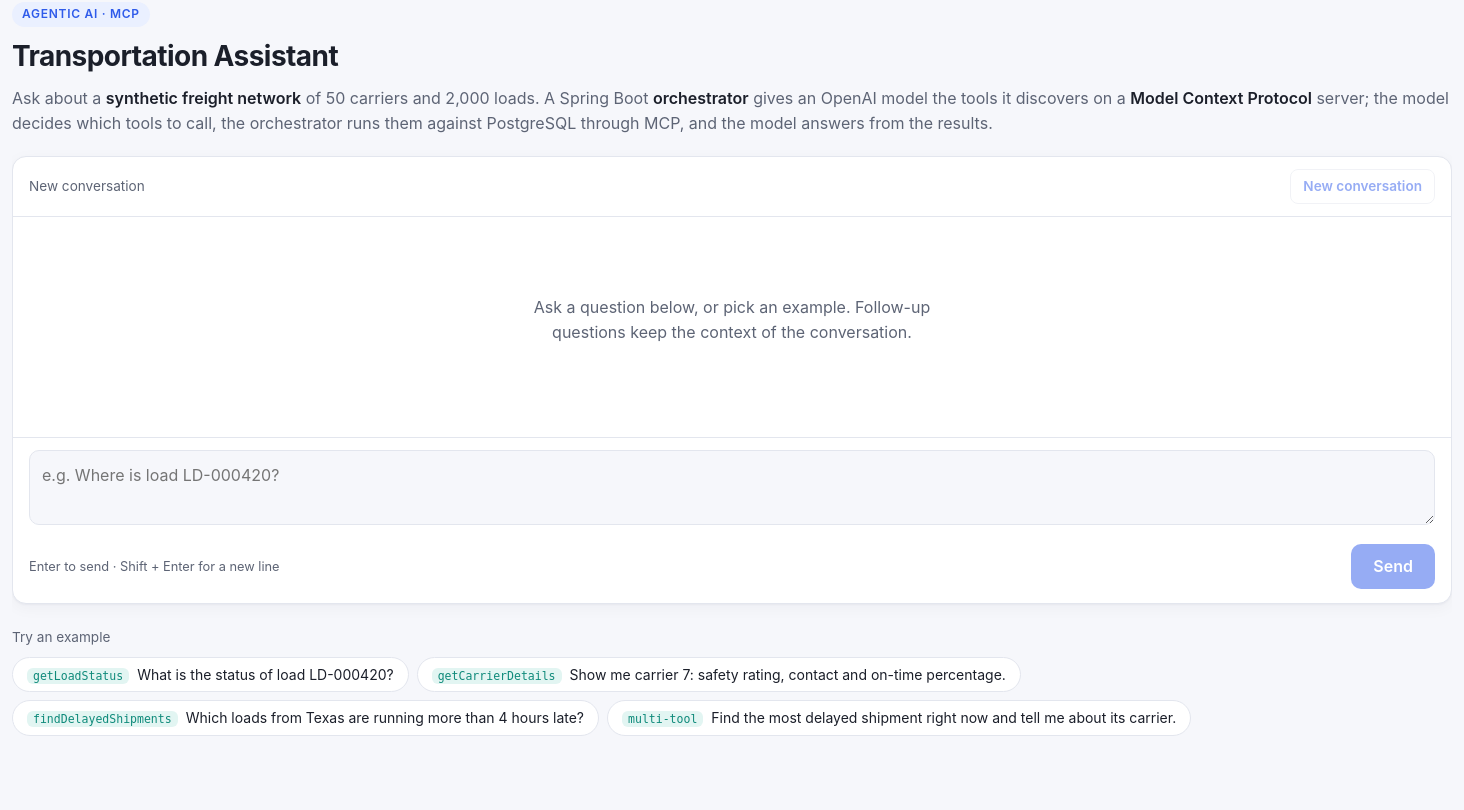
Test case: TransportationAssistant › starts a new conversation without the old id
Later steps or results of the test are not shown.
In the text box named "message the transportation assistant": (732, 487) top-left (29, 450), bottom-right (1435, 525), type "Where is load 420?"
Then press Enter
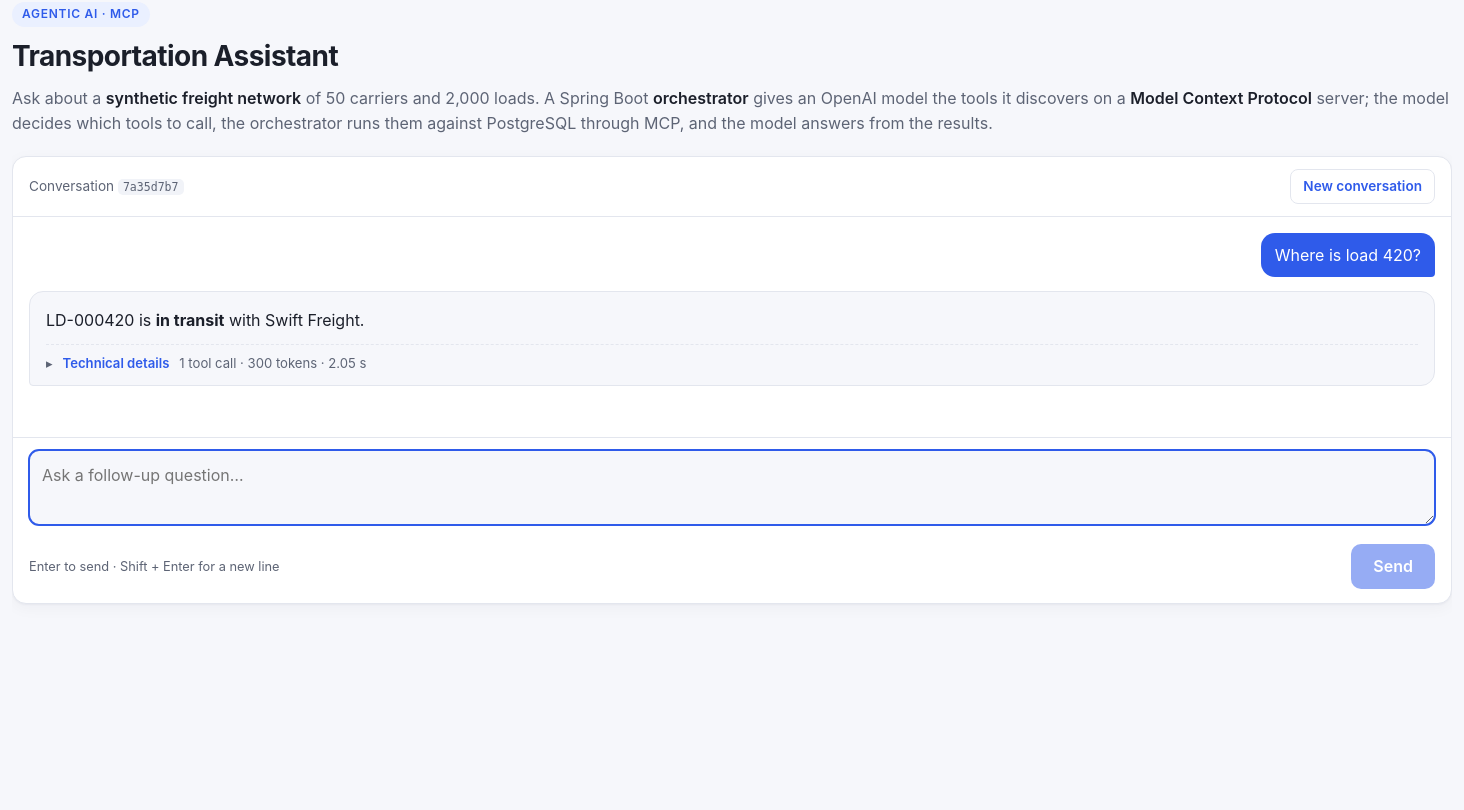
Expected: the text "in transit" is shown, top-left (156, 310), bottom-right (224, 330)
Click the button "New conversation": (1363, 186) top-left (1290, 169), bottom-right (1435, 204)
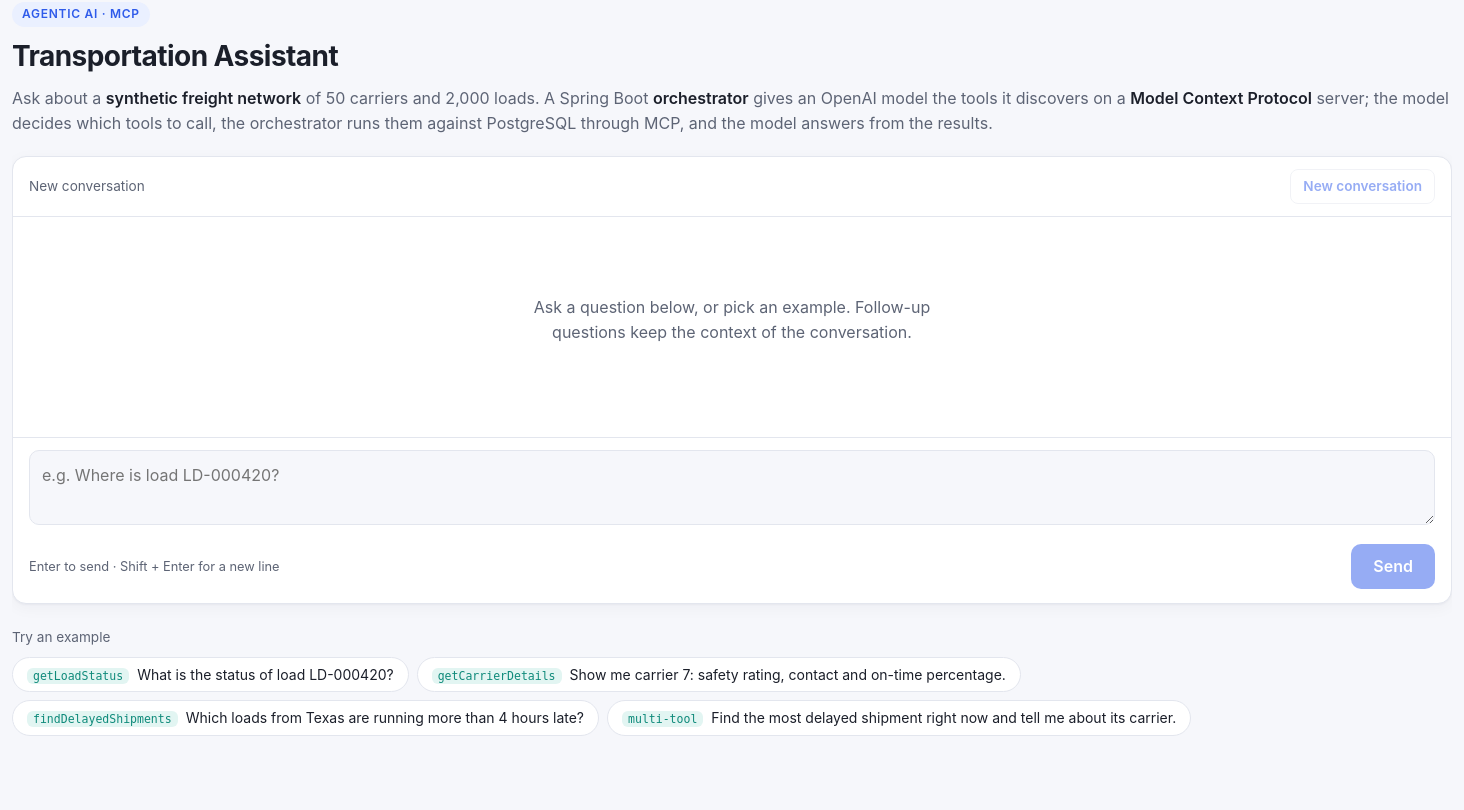
Expected: the text "in transit" is gone
Expected: the text "Try an example" is shown, top-left (12, 629), bottom-right (110, 645)
